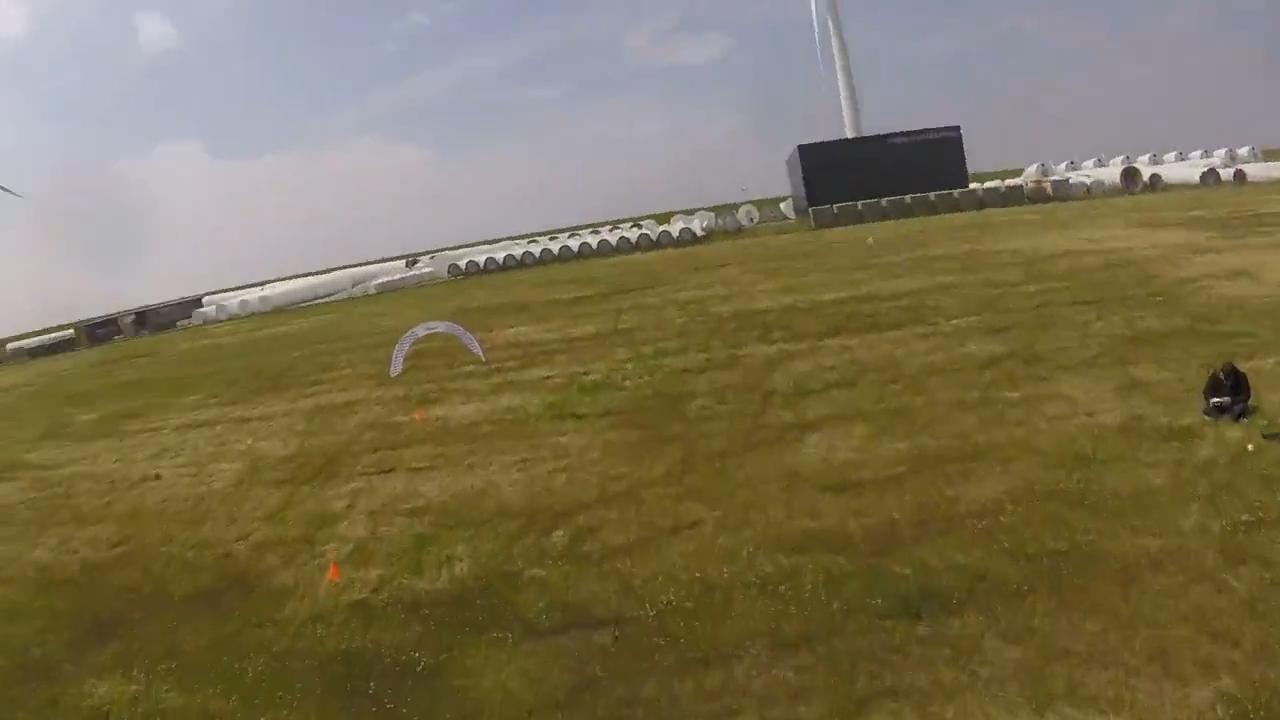gate: (387, 318, 487, 379)
